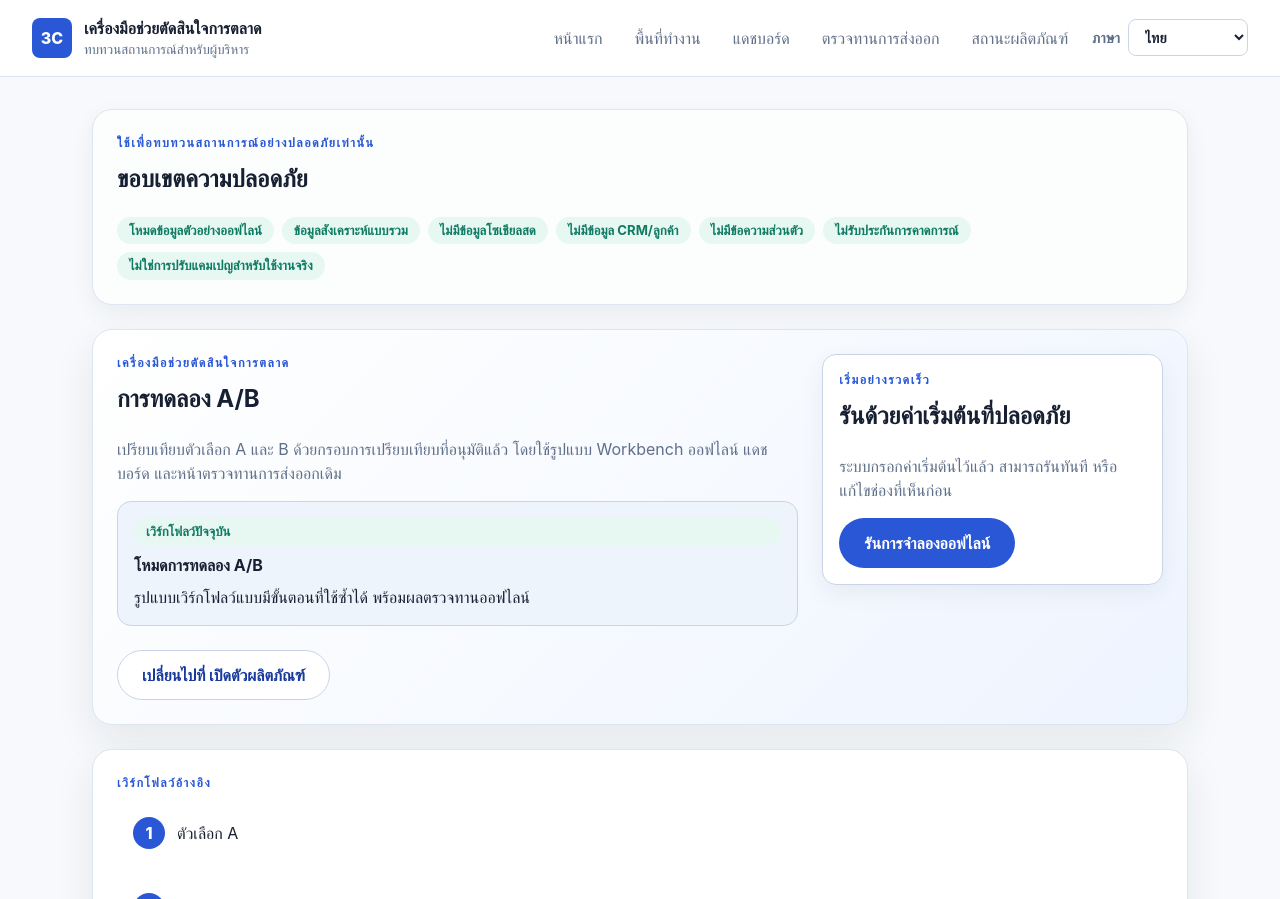
Test: M18 Thai-first internationalization › renders A/B workflow steps in Thai by default while preserving English secondary copy
Select "English" in the dropdown labelled "ภาษา" at point(1188, 38), box [1128,20,1248,56]
(page scrolled)
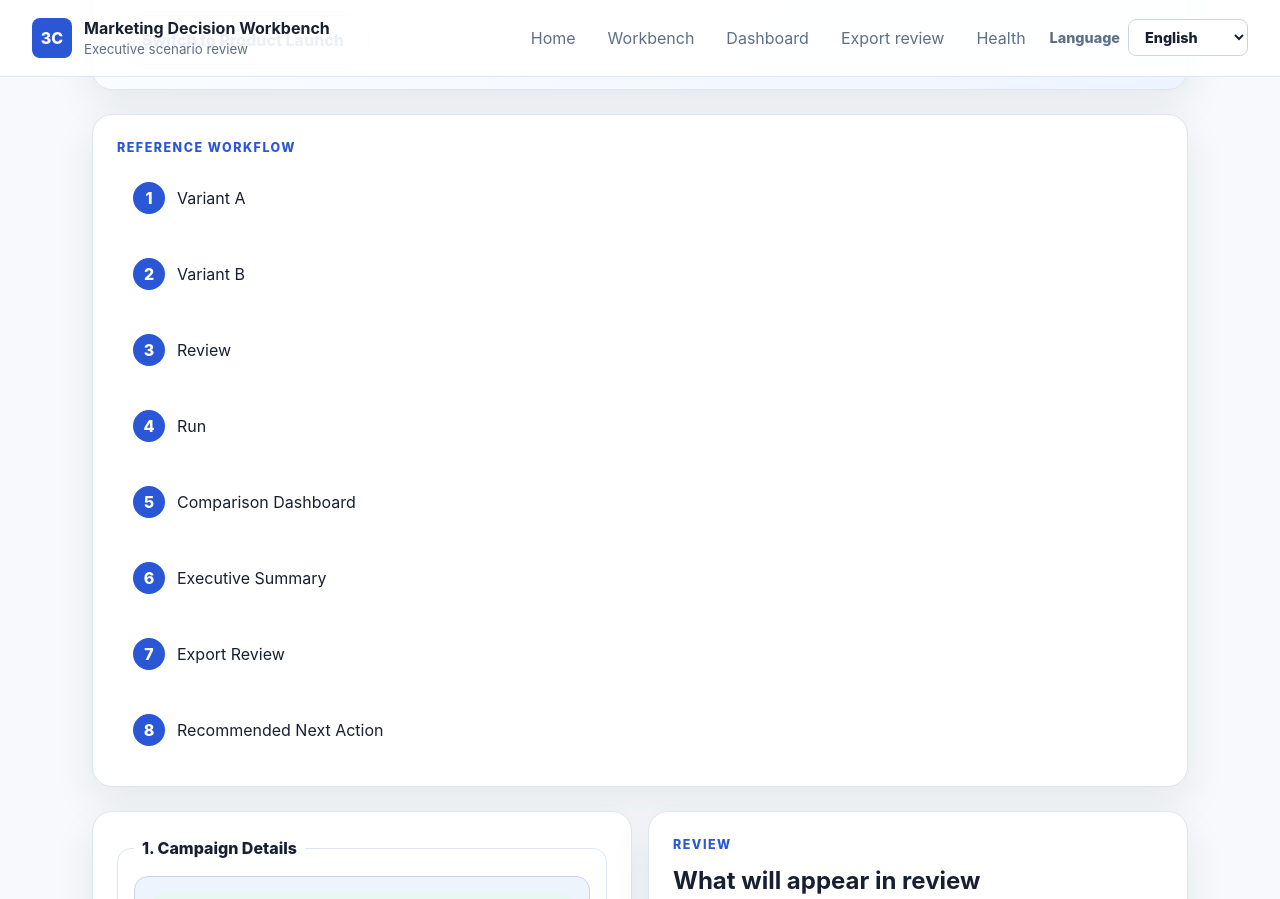
Check: the element named "Reference workflow steps" shows "Comparison Dashboard", box [177,492,356,512]
